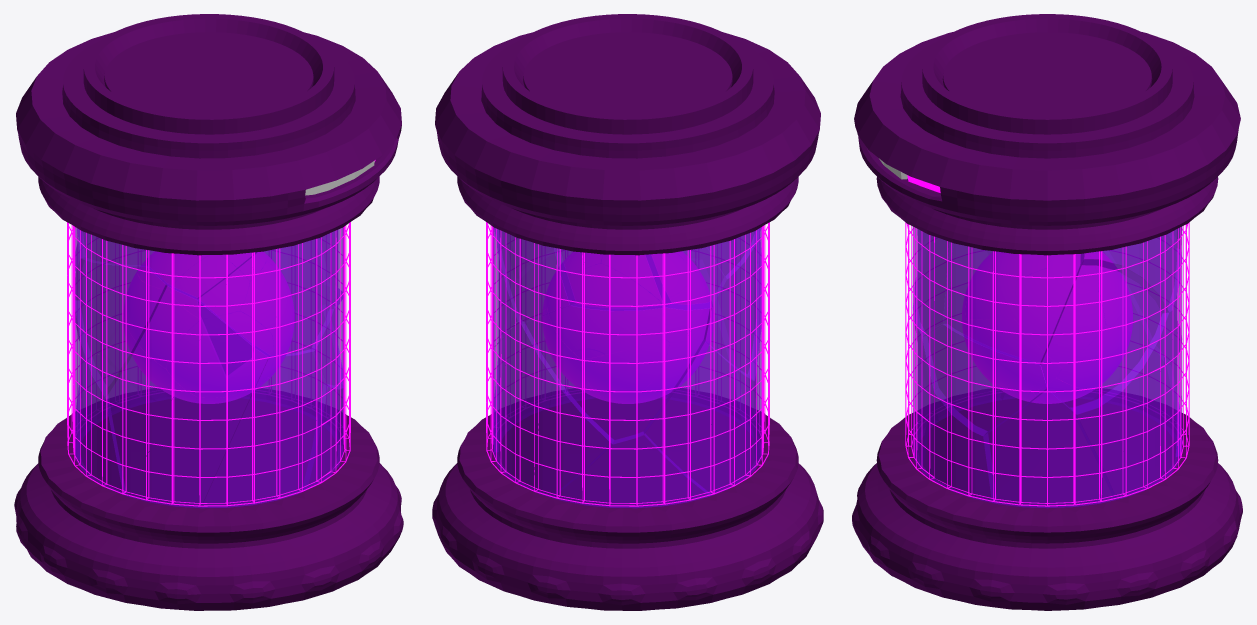
File: BrokenTutuFour.fbx
The picture shows the model from 3 angles, left to right: view 1: azimuth 30°, elevation 25°; view 2: azimuth 150°, elevation 25°; view 3: azimuth 270°, elevation 25°; orthographic projection.
Parts seen in each view (by area): view 1: 円柱.002, 円柱.001_cell.011, 円柱.001_cell.002, 円柱.001_cell.014, 円柱.001_cell.019, 円柱_cell.002, 円柱_cell.001, 球_cell.018, 円柱.001_cell.007, 円柱_cell.004, 円柱.001_cell.008, 円柱.001_cell.005 (+17 smaller); view 2: 円柱.002, 円柱.001_cell.008, 円柱.001_cell.017, 円柱.001_cell.007, 円柱_cell.003, 球_cell.012, 円柱.001_cell.001, 円柱.001_cell.011, 円柱.001_cell.015, 円柱.001_cell.019, 円柱_cell.002, 円柱.001_cell.010 (+16 smaller); view 3: 円柱.002, 円柱_cell.004, 円柱.001_cell.004, 円柱.001_cell.012, 円柱.001_cell.017, 円柱.001_cell.005, 円柱.001_cell.018, 円柱.001_cell.011, 円柱.001_cell.009, 球_cell.016, 円柱.001_cell.008, 球_cell.005 (+14 smaller).
Boxes of the visible parts, x1,y1,x2,y2 form: 円柱.002: [14, 14, 403, 610]; 円柱.001_cell.011: [105, 284, 269, 507]; 円柱.001_cell.002: [201, 349, 327, 508]; 円柱.001_cell.014: [197, 230, 337, 357]; 円柱.001_cell.019: [75, 258, 166, 397]; 円柱_cell.002: [67, 222, 229, 495]; 円柱_cell.001: [129, 263, 335, 506]; 球_cell.018: [166, 311, 273, 397]; 円柱.001_cell.007: [75, 301, 125, 494]; 円柱_cell.004: [252, 222, 350, 473]; 円柱.001_cell.008: [75, 234, 153, 354]; 円柱.001_cell.005: [272, 307, 342, 444]; 円柱.002: [432, 14, 823, 610]; 円柱.001_cell.008: [521, 302, 711, 443]; 円柱.001_cell.017: [493, 320, 613, 497]; 円柱.001_cell.007: [644, 340, 760, 496]; 円柱_cell.003: [533, 253, 728, 506]; 球_cell.012: [548, 263, 662, 354]; 円柱.001_cell.001: [552, 432, 710, 508]; 円柱.001_cell.011: [696, 231, 761, 460]; 円柱.001_cell.015: [554, 248, 670, 310]; 円柱.001_cell.019: [704, 228, 761, 380]; 円柱_cell.002: [674, 222, 769, 488]; 円柱.001_cell.010: [494, 228, 575, 323]; 円柱.002: [852, 14, 1242, 610]; 円柱_cell.004: [905, 222, 1189, 506]; 円柱.001_cell.004: [1041, 259, 1168, 414]; 円柱.001_cell.012: [943, 242, 1084, 364]; 円柱.001_cell.017: [1070, 311, 1182, 499]; 円柱.001_cell.005: [983, 389, 1116, 508]; 円柱.001_cell.018: [922, 324, 1046, 435]; 円柱.001_cell.011: [915, 236, 1003, 420]; 円柱.001_cell.009: [919, 388, 996, 502]; 球_cell.016: [1014, 268, 1105, 367]; 円柱.001_cell.008: [1105, 234, 1182, 362]; 球_cell.005: [966, 319, 1061, 390].
Size of the model in its own units: 276 by 371 by 276.
